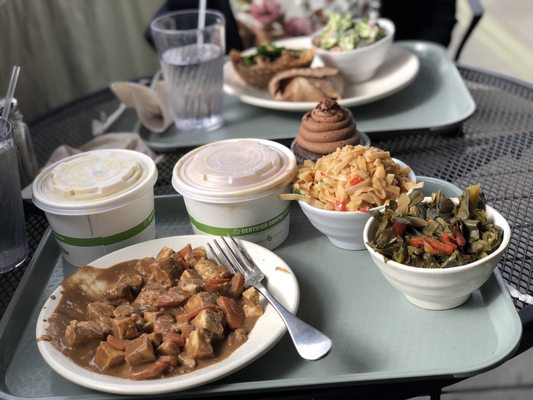burger: (207, 236, 332, 362)
pizza: (28, 148, 158, 269), (171, 137, 299, 251), (148, 7, 228, 133), (0, 103, 30, 275)
salad: (0, 66, 21, 118)
soup: (268, 66, 346, 103)
sushi: (35, 240, 289, 396), (363, 177, 512, 312), (30, 148, 158, 267), (288, 143, 422, 252), (170, 137, 298, 251), (312, 16, 396, 83)
